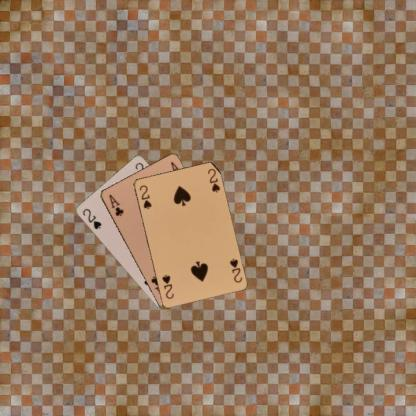2s: (80, 206, 103, 230), (227, 256, 243, 284), (137, 183, 152, 210)
Ac: (106, 192, 125, 217)
